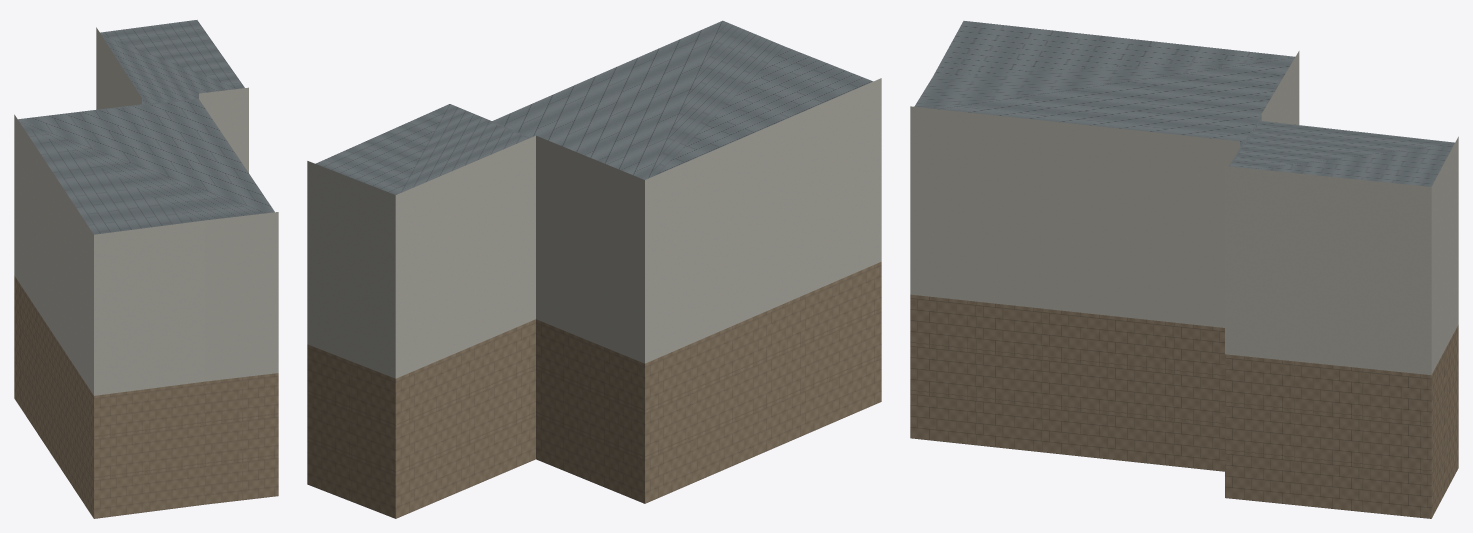
The model's file is bld_c7_36_513.gltf.
3 views of the same model, side by side, from view 1: azimuth 30°, elevation 25°; view 2: azimuth 150°, elevation 25°; view 3: azimuth 270°, elevation 25° (orthographic). The views are drawn at different scales.
Visible parts, largest first — view 1: bld_c7_36_513; view 2: bld_c7_36_513; view 3: bld_c7_36_513.
Part boxes in pixels (bbox=[...]): bld_c7_36_513: bbox=[14, 20, 278, 518]; bld_c7_36_513: bbox=[307, 20, 881, 518]; bld_c7_36_513: bbox=[910, 21, 1458, 518].
Size of the model in its own units: 13.17 by 11.78 by 17.63.
4 materials, 4 textured.
